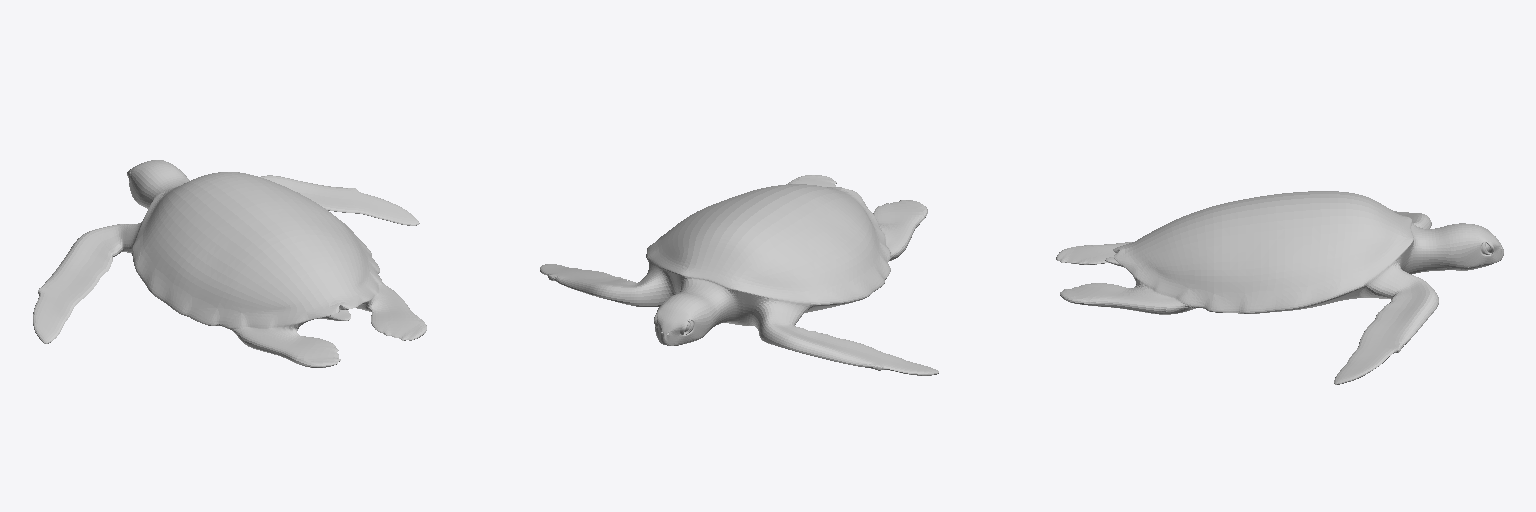
The model's file is turtle_1.obj.
3 renders of one model, left to right at view 1: azimuth 30°, elevation 25°; view 2: azimuth 150°, elevation 25°; view 3: azimuth 270°, elevation 25°, orthographic.
Visible parts, largest first — view 1: turtle_1; view 2: turtle_1; view 3: turtle_1.
Boxes of the visible parts, box(x1,y1,x2,y2) form: turtle_1: box(33, 160, 426, 367); turtle_1: box(540, 175, 938, 375); turtle_1: box(1056, 191, 1503, 384).
Bounding box in the file's own units: 1.45 × 0.4054 × 1.47.